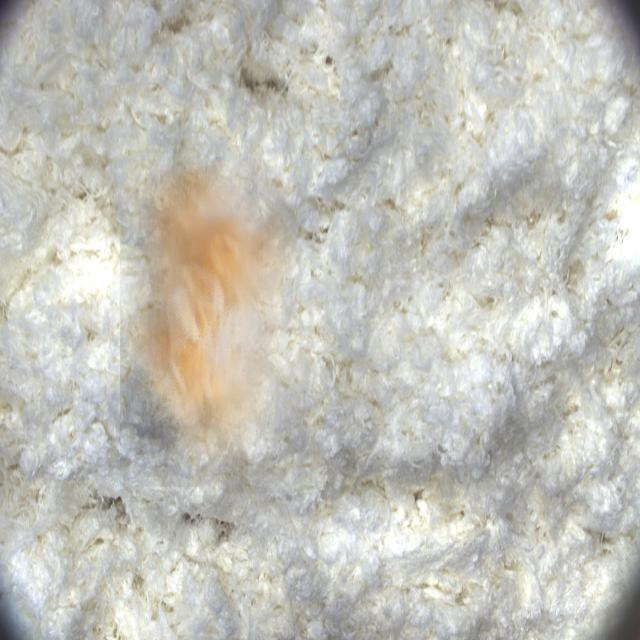dust: (120, 159, 303, 487)
